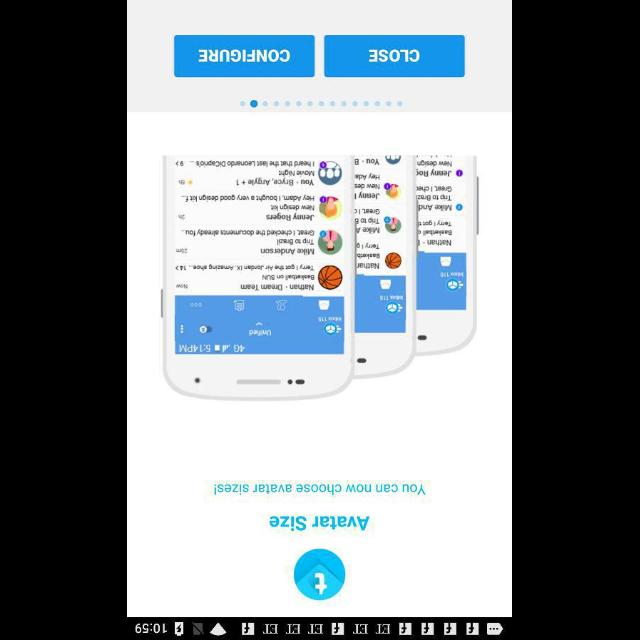image: (161, 155, 479, 401), (294, 548, 346, 600)
pageindicator: (240, 100, 404, 108)
text: (216, 483, 427, 495), (270, 516, 370, 530)
textbutton: (175, 35, 315, 77), (325, 35, 465, 77)
uppertaskbar: (128, 617, 512, 639)
